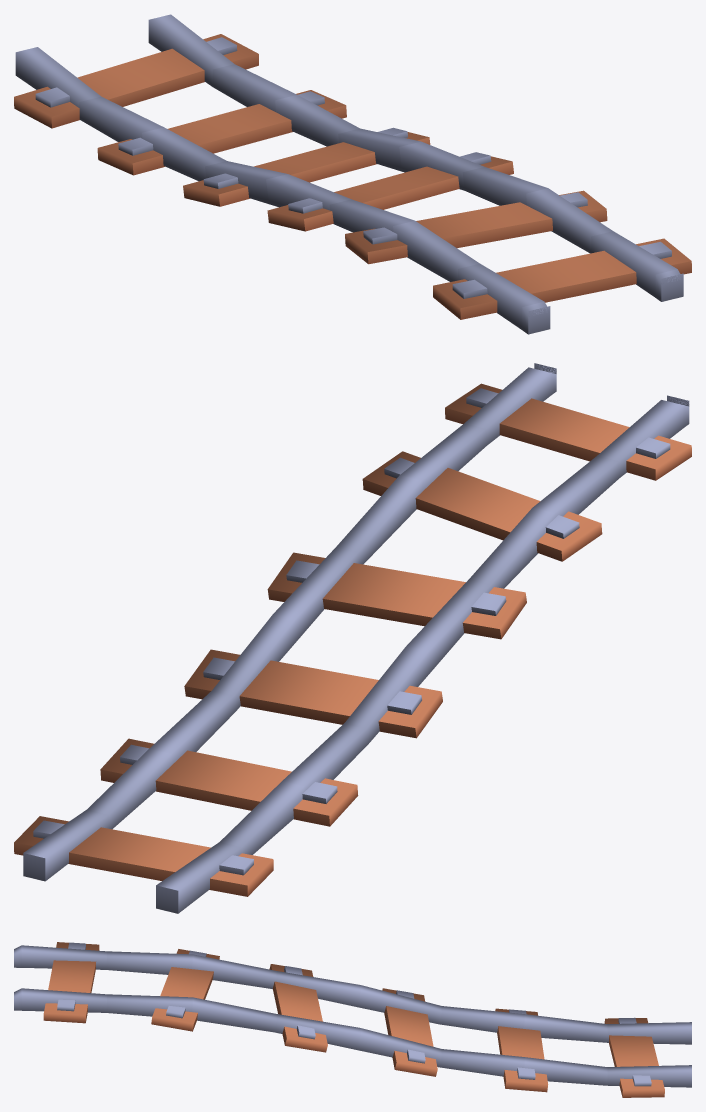
File: railroad-damaged-straight-hill-complete-half.glb
The picture shows the model from 3 angles, top to bottom: view 1: azimuth 30°, elevation 25°; view 2: azimuth 150°, elevation 25°; view 3: azimuth 270°, elevation 25°; orthographic projection. The views are drawn at different scales.
Parts seen in each view (by area): view 1: railroad-damaged-straight-hill-complete-half; view 2: railroad-damaged-straight-hill-complete-half; view 3: railroad-damaged-straight-hill-complete-half.
Boxes of the visible parts, x1,y1,x2,y2 form: railroad-damaged-straight-hill-complete-half: (14, 14, 691, 334); railroad-damaged-straight-hill-complete-half: (14, 363, 691, 913); railroad-damaged-straight-hill-complete-half: (14, 942, 691, 1097).
Bounding box in the file's own units: 1.03 × 0.6005 × 4.
